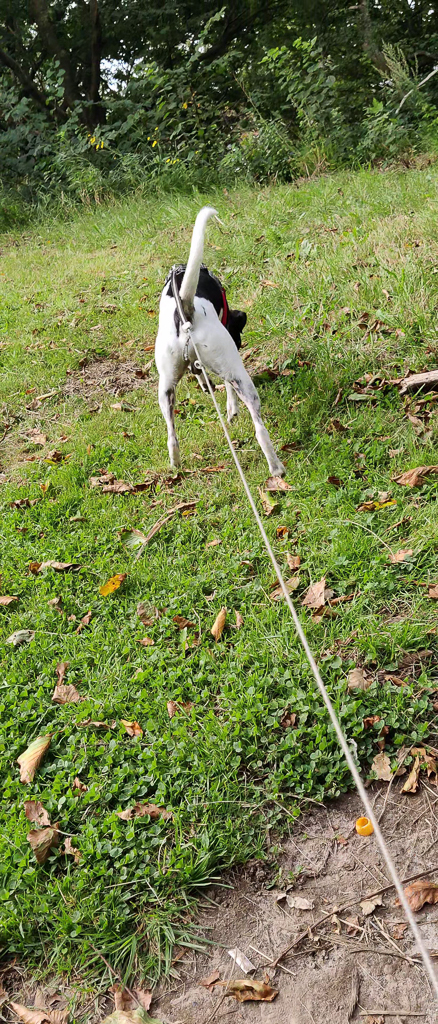Dog: (120, 196, 329, 515)
